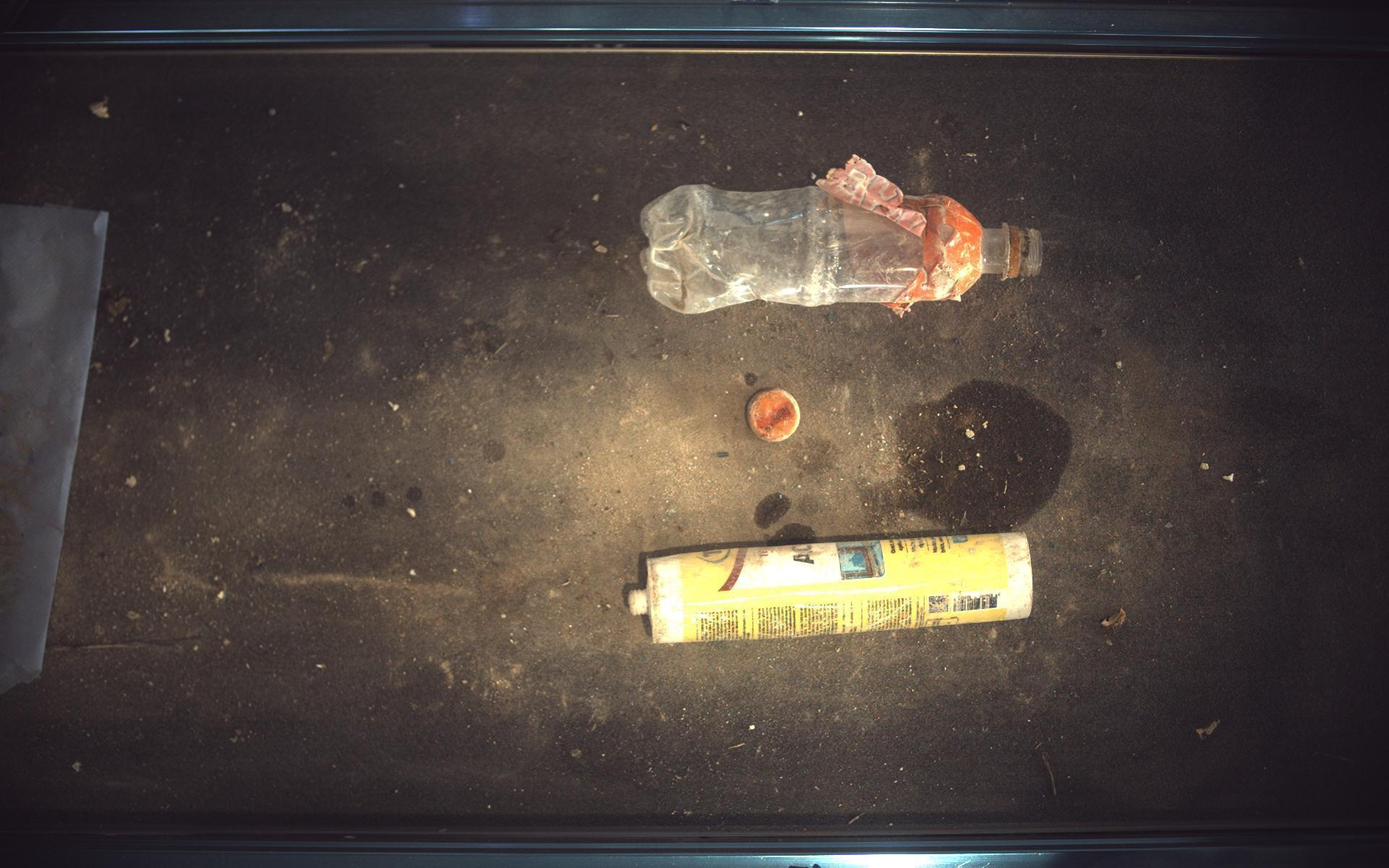general_w: (642, 154, 1045, 313), (747, 388, 802, 442)
plastic: (629, 533, 1035, 644)
